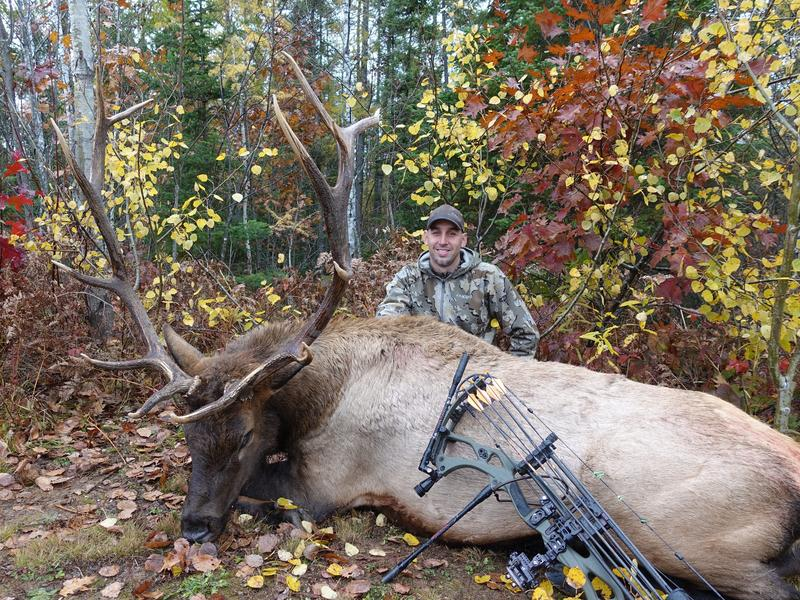elk: (71, 160, 800, 600)
